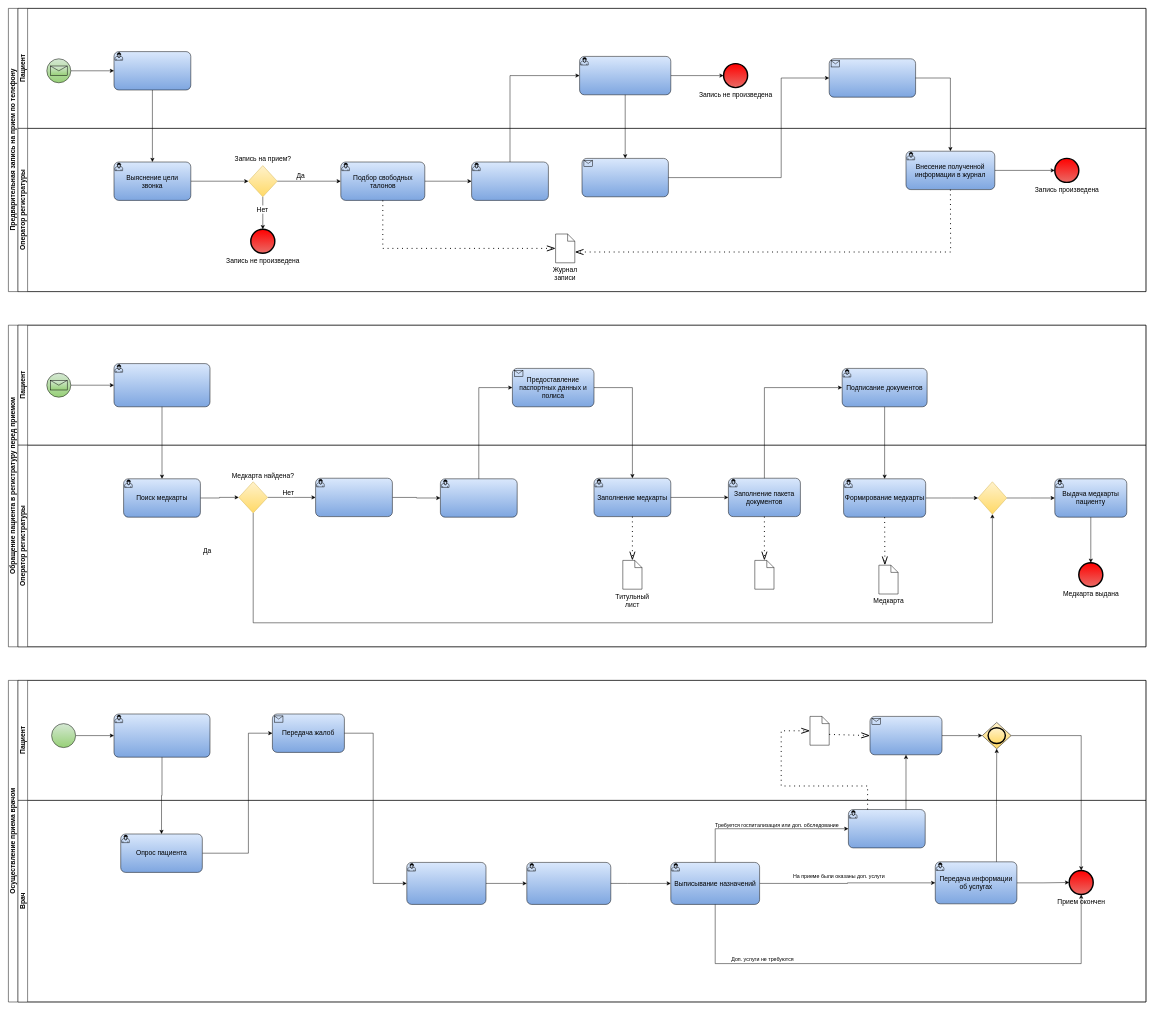
The diagram is 1154 pixels wide and 1010 high, and some of its shapes have lost their labels. The shapes that lost their labels are listed below. From the top down, each one's box as (x1, y1, x2, y2) in pixels, then its label:
(114, 51, 191, 90): Звонок в клинику
(579, 56, 671, 95): Выбор времени приема из предложенных вариантов
(829, 58, 916, 97): Предоставление информации о себе (ФИО, дата рождения, телефон)
(471, 162, 548, 200): Предложить пациенту время для приема
(582, 158, 668, 197): Запрос данных пациента
(114, 363, 210, 407): Обращение в регистратуру для получения медицинской карты
(315, 478, 392, 517): Создание медкарты
(440, 478, 517, 517): Запрос паспортных данных и полиса у пациента
(754, 560, 774, 589): Договор и согласие
(114, 714, 210, 757): Обращение к врачу
(810, 716, 829, 745): Направление
(870, 716, 942, 755): Получение направления
(848, 809, 925, 848): Заполнение направления
(406, 862, 486, 904): Осмотр пациента
(526, 862, 611, 904): Внесение результатов приема в медкарту пациента
